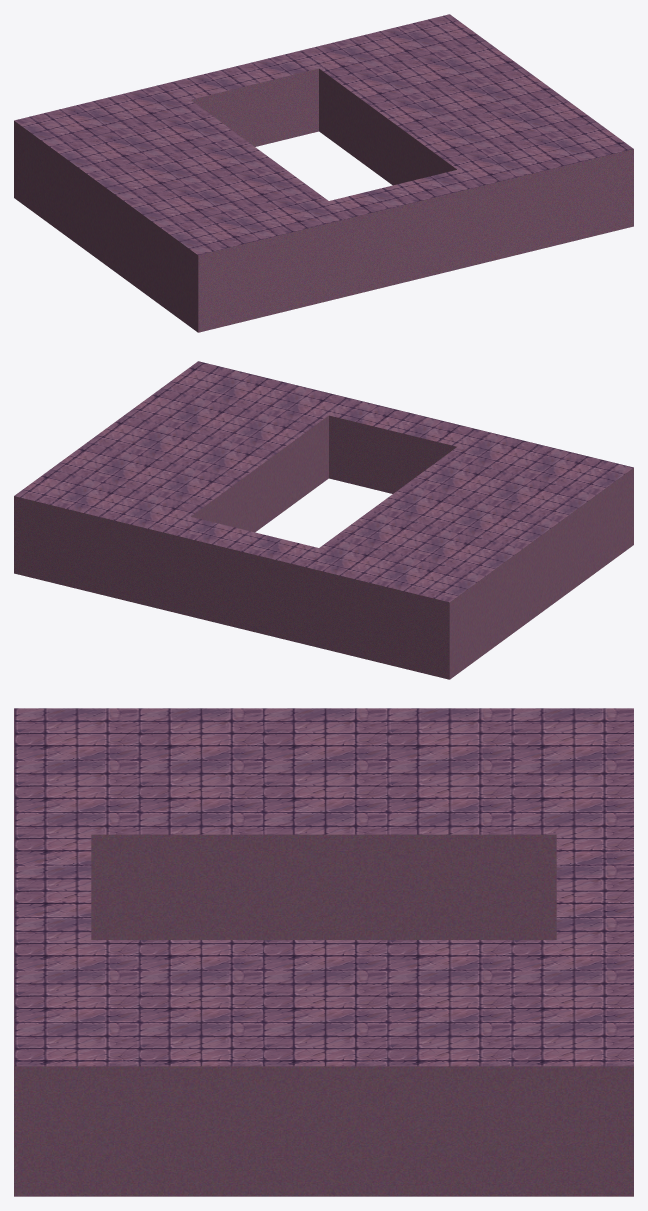
File: AlleyGroundNew.fbx
3 renders of one model, top to bottom at view 1: azimuth 30°, elevation 25°; view 2: azimuth 150°, elevation 25°; view 3: azimuth 270°, elevation 25°, orthographic. The views are drawn at different scales.
Parts seen in each view (by area): view 1: Ground_Alleey2; view 2: Ground_Alleey2; view 3: Ground_Alleey2.
Boxes of the visible parts, x1=… form: Ground_Alleey2: x1=14, y1=14, x2=633, y2=332; Ground_Alleey2: x1=14, y1=361, x2=633, y2=679; Ground_Alleey2: x1=14, y1=708, x2=633, y2=1196.
Size of the model in its own units: 11801 by 2004 by 8642.
